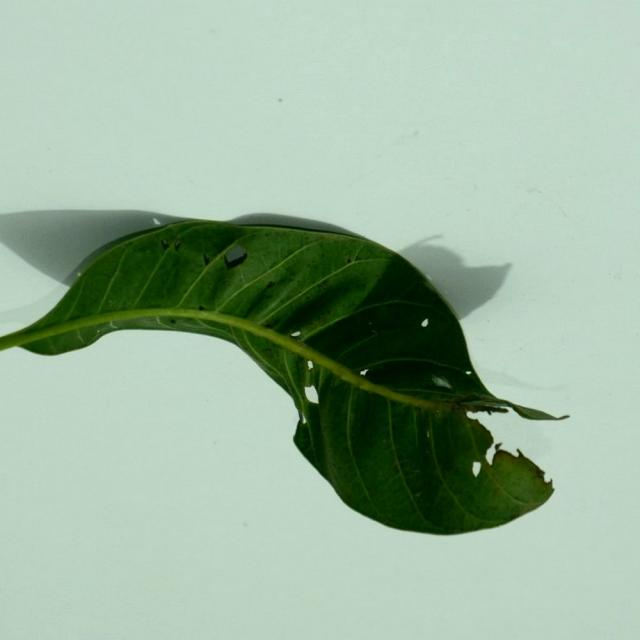Anthracnose: (484, 443, 550, 503), (223, 245, 248, 269), (302, 381, 323, 408), (432, 375, 451, 388), (472, 461, 481, 476), (304, 379, 314, 390), (173, 240, 182, 251), (109, 319, 119, 328), (299, 413, 306, 424), (360, 369, 369, 377), (307, 360, 314, 370), (290, 331, 300, 338), (421, 318, 429, 326), (296, 332, 304, 340), (153, 218, 161, 225), (198, 304, 206, 311), (465, 369, 472, 376), (426, 430, 430, 438), (76, 272, 81, 278), (96, 329, 101, 333)
Mango: (0, 211, 569, 538)
